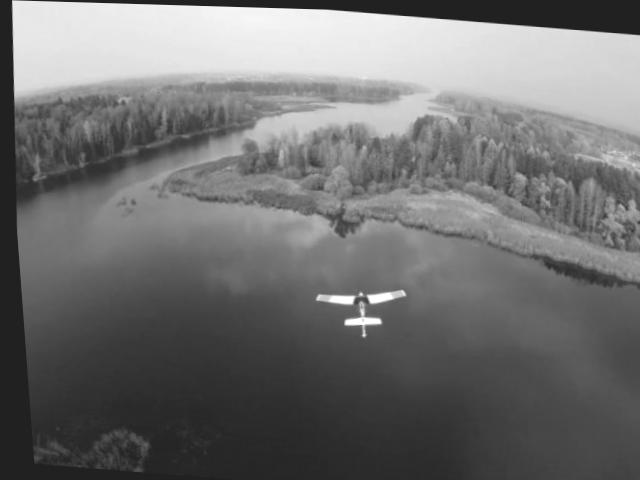hedef: (307, 274, 408, 342)
